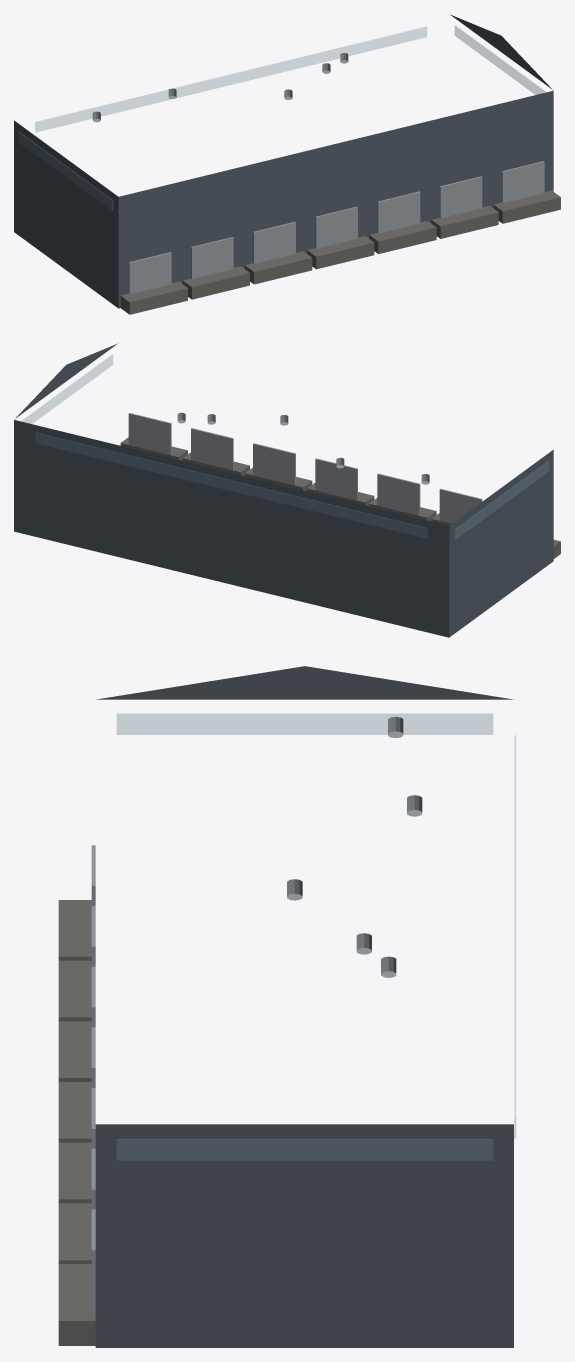
File: warehouse-3.glb
3 renders of one model, top to bottom at view 1: azimuth 30°, elevation 25°; view 2: azimuth 150°, elevation 25°; view 3: azimuth 270°, elevation 25°, orthographic. The views are drawn at different scales.
Visible parts, largest first — view 1: warehouse-3; view 2: warehouse-3; view 3: warehouse-3.
Part boxes in pixels (bbox=[...]): warehouse-3: bbox=[14, 14, 560, 314]; warehouse-3: bbox=[14, 343, 560, 637]; warehouse-3: bbox=[58, 666, 515, 1347].
Size of the model in its own units: 43.72 by 12.29 by 19.82.
